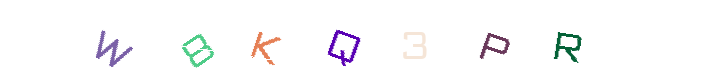3: (318, 0, 398, 80)
8: (210, 0, 290, 80)
K: (224, 0, 304, 80)
P: (454, 0, 534, 80)
Q: (303, 0, 383, 80)
R: (527, 0, 607, 80)
W: (126, 0, 206, 80)
